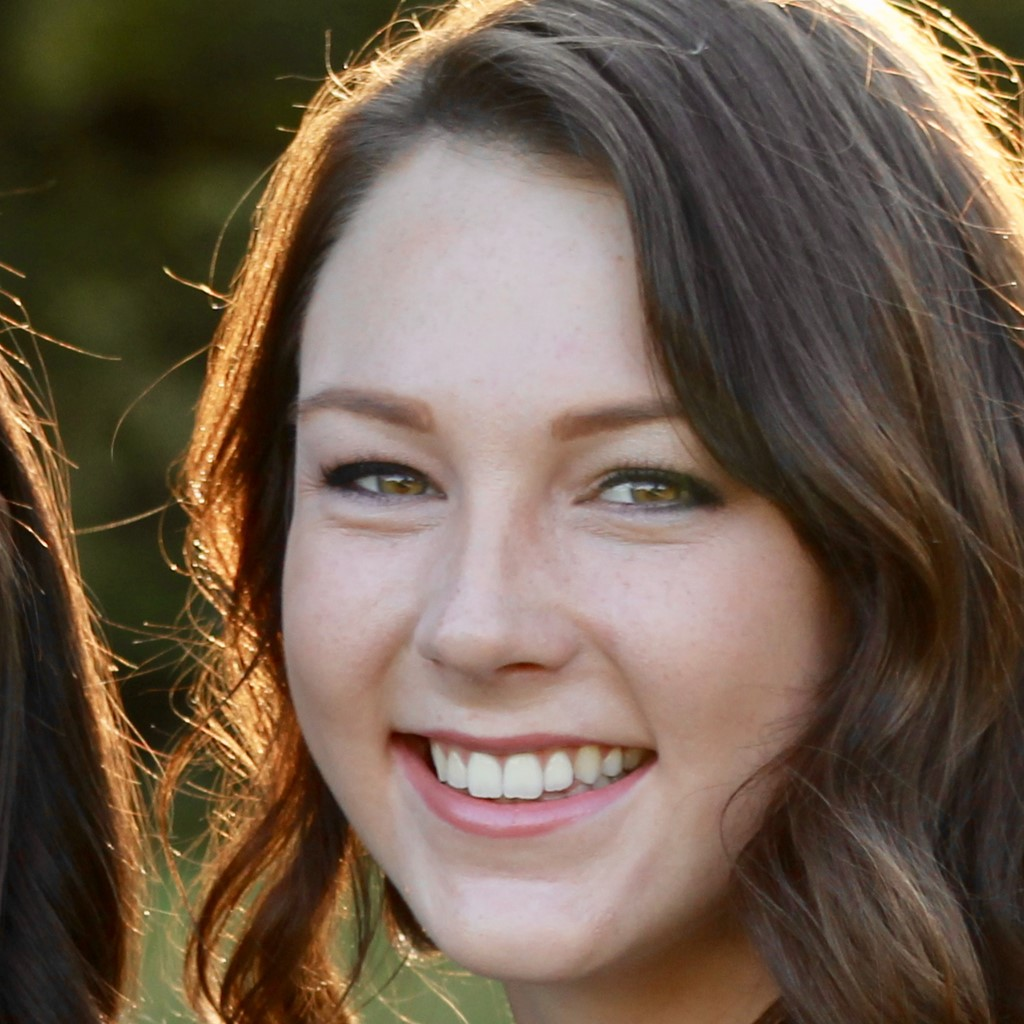sin_mascara: (289, 127, 864, 972)
